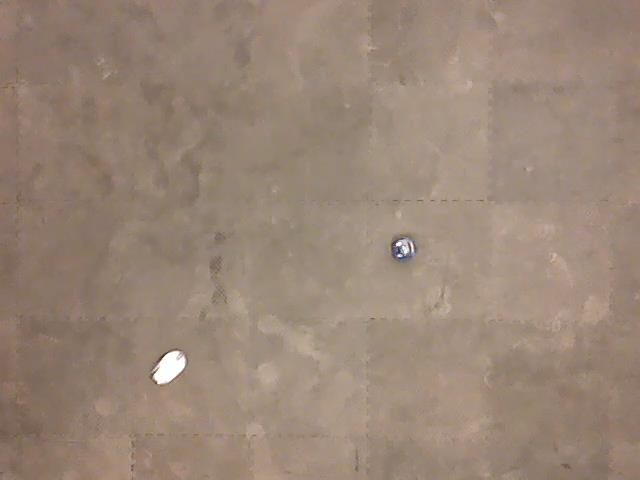Agent: (148, 347, 189, 387), (389, 234, 418, 262)
